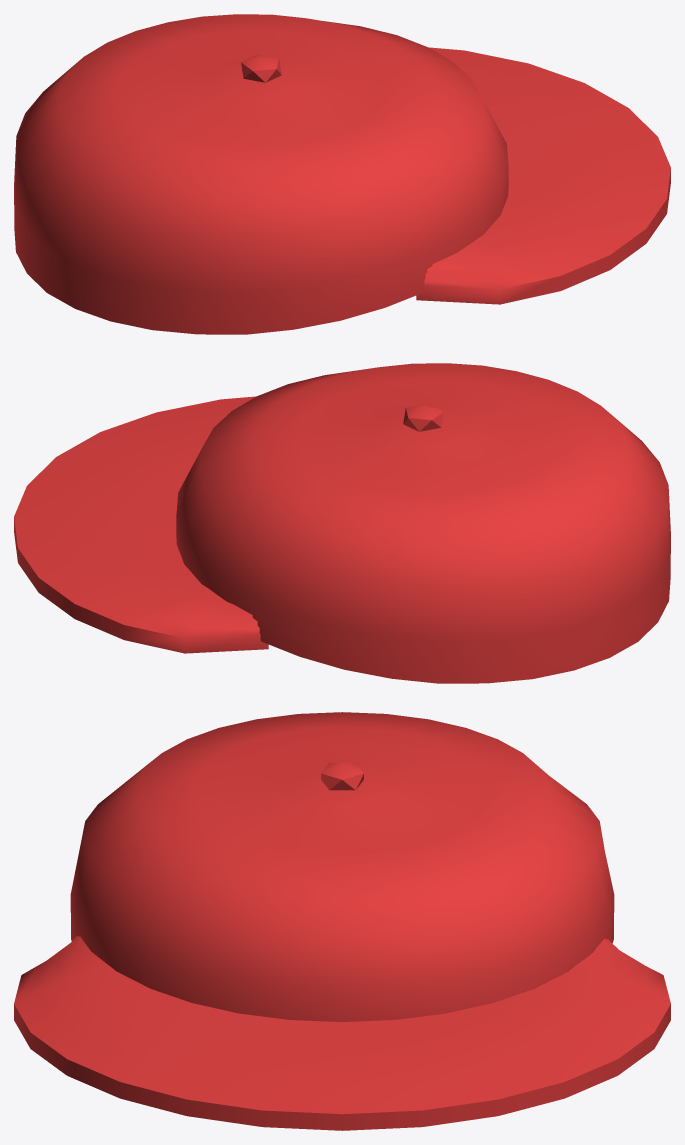
Rendered from acc_cap.glb.
The picture shows the model from 3 angles, top to bottom: view 1: azimuth 30°, elevation 25°; view 2: azimuth 150°, elevation 25°; view 3: azimuth 270°, elevation 25°; orthographic projection. The views are drawn at different scales.
Parts seen in each view (by area): view 1: Cap; view 2: Cap; view 3: Cap.
Boxes of the visible parts, x1,y1,x2,y2 form: Cap: (14, 14, 670, 334); Cap: (14, 363, 670, 683); Cap: (14, 712, 670, 1130).
Bounding box in the file's own units: 0.6434 × 0.1948 × 0.5737.
